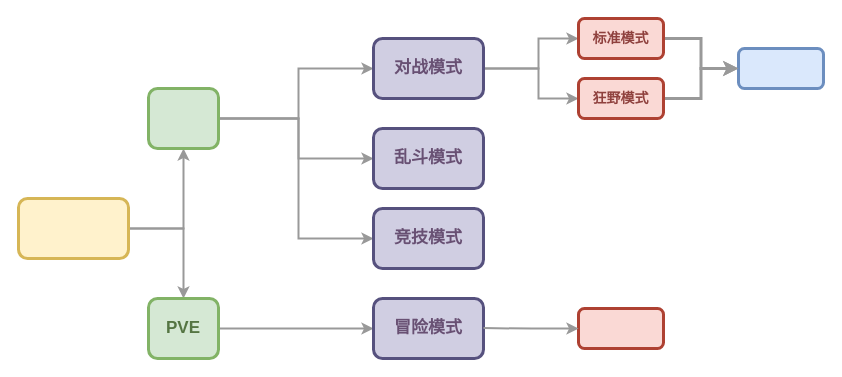
This 842x377 diagram has some shape labels left out. Each missing label, with the centre of its shape:
"PVP" goes at (x=183, y=118).
"休闲/天梯" goes at (x=780, y=68).
"对战系统" goes at (x=73, y=228).
"普通/英雄" goes at (x=620, y=328).
